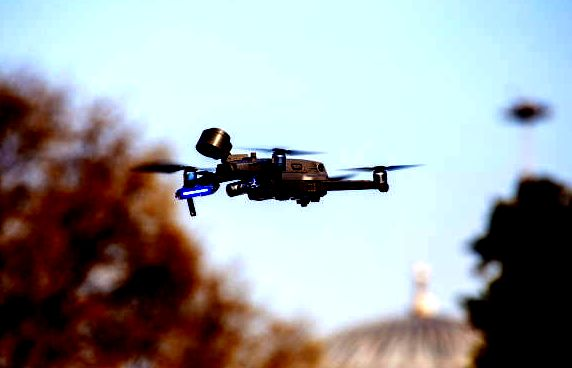Drone: (130, 123, 426, 222)
